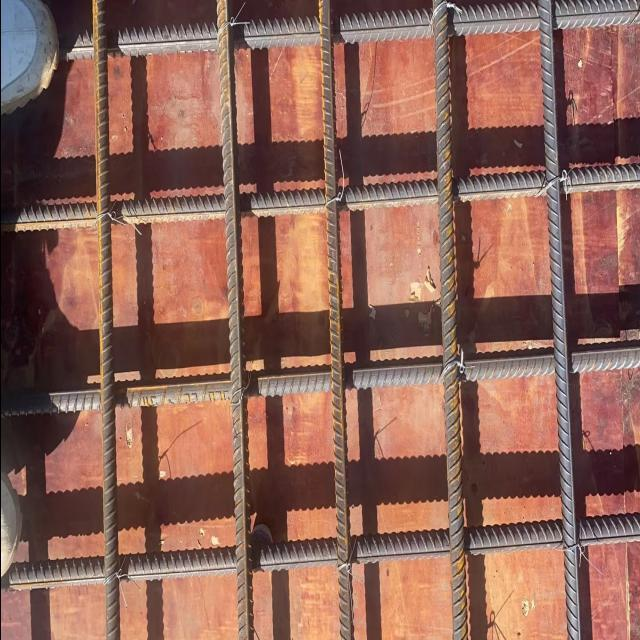ribbed bar: (1, 338, 640, 421), (1, 513, 640, 589), (1, 160, 640, 235), (55, 0, 640, 60), (538, 0, 582, 638), (214, 0, 256, 639), (431, 0, 469, 639), (318, 0, 355, 639), (90, 0, 120, 639)
